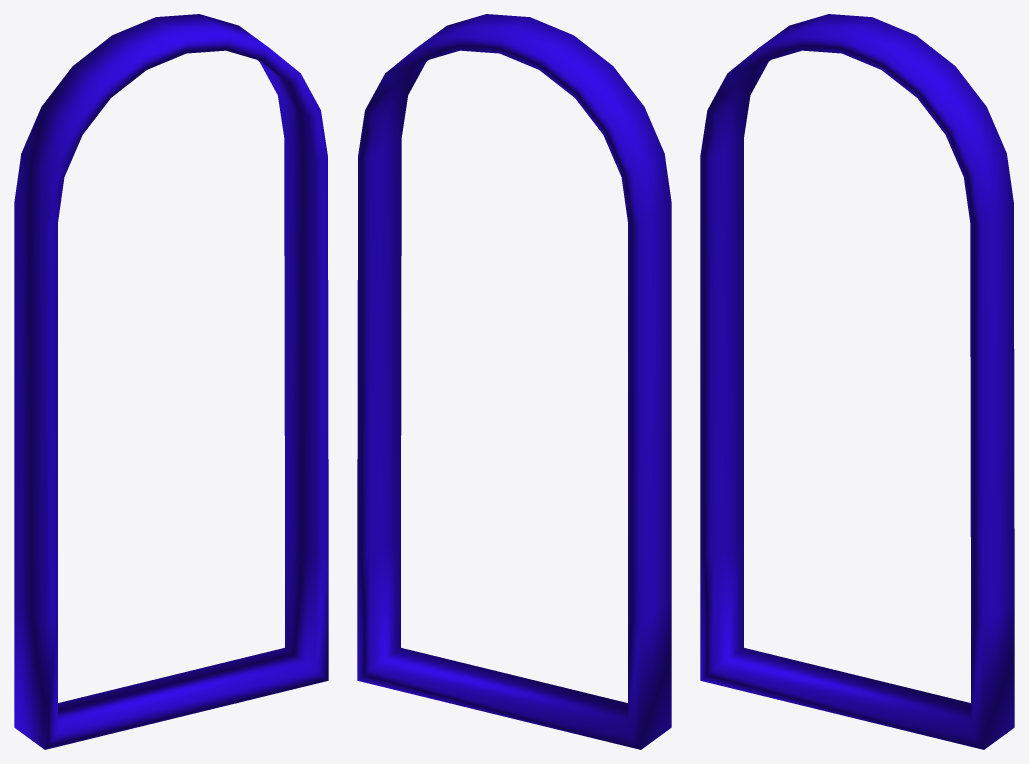
File: DoorWay.fbx
3 views of the same model, side by side, from view 1: azimuth 30°, elevation 25°; view 2: azimuth 150°, elevation 25°; view 3: azimuth 330°, elevation 25° (orthographic).
Visible parts, largest first — view 1: DoorWay; view 2: DoorWay; view 3: DoorWay.
Boxes of the visible parts, x1,y1,x2,y2 form: DoorWay: (14,14,328,749); DoorWay: (357,14,671,749); DoorWay: (700,14,1014,749).
Size of the model in its own units: 107 by 244 by 20.
